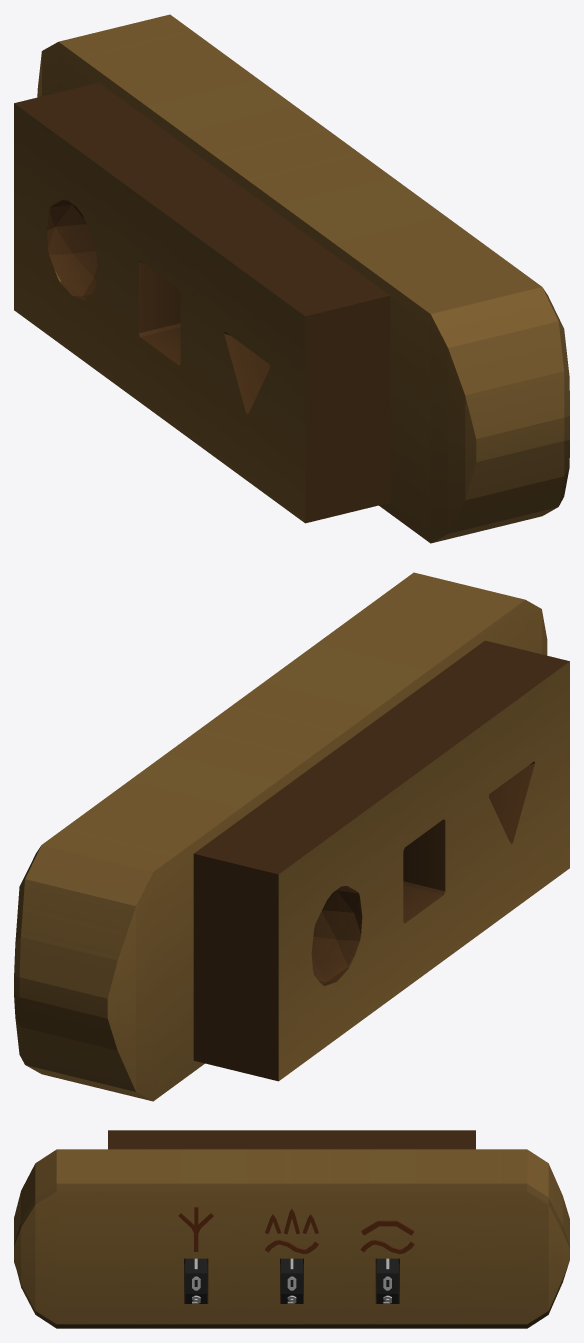
The model's file is platon_fish_riddle.glb.
The picture shows the model from 3 angles, top to bottom: view 1: azimuth 30°, elevation 25°; view 2: azimuth 150°, elevation 25°; view 3: azimuth 270°, elevation 25°; orthographic projection. The views are drawn at different scales.
Parts seen in each view (by area): view 1: Cube.240, support_holes.001; view 2: Cube.240, support_holes.001; view 3: support_holes.001, Cube.247, Cube.240, disk_forest, disk_beach, disk_reef, symbole_forest.002, Cube.242, Cube.246, Cube.241.
Boxes of the visible parts, <box> form: Cube.240: <box>14,82,390,523</box>; support_holes.001: <box>37,14,569,543</box>; Cube.240: <box>193,640,569,1081</box>; support_holes.001: <box>14,572,547,1101</box>; support_holes.001: <box>14,1149,569,1328</box>; Cube.247: <box>108,1192,475,1323</box>; Cube.240: <box>108,1130,475,1149</box>; disk_forest: <box>185,1258,207,1303</box>; disk_beach: <box>376,1258,398,1303</box>; disk_reef: <box>281,1258,302,1303</box>; symbole_forest.002: <box>178,1207,213,1251</box>; Cube.242: <box>361,1220,414,1235</box>; Cube.246: <box>265,1240,318,1253</box>; Cube.241: <box>360,1239,414,1254</box>.
Size of the model in its own units: 4.19 by 4.34 by 15.1.
Materials: 8 (2 with a texture image).
